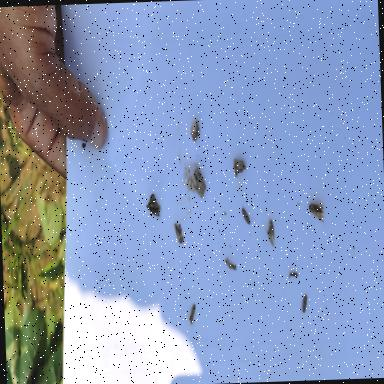pbw: (308, 202, 325, 222), (240, 204, 254, 224), (264, 224, 274, 246), (188, 302, 196, 326), (173, 222, 180, 242), (268, 220, 274, 240), (302, 293, 308, 312), (178, 224, 184, 242)
